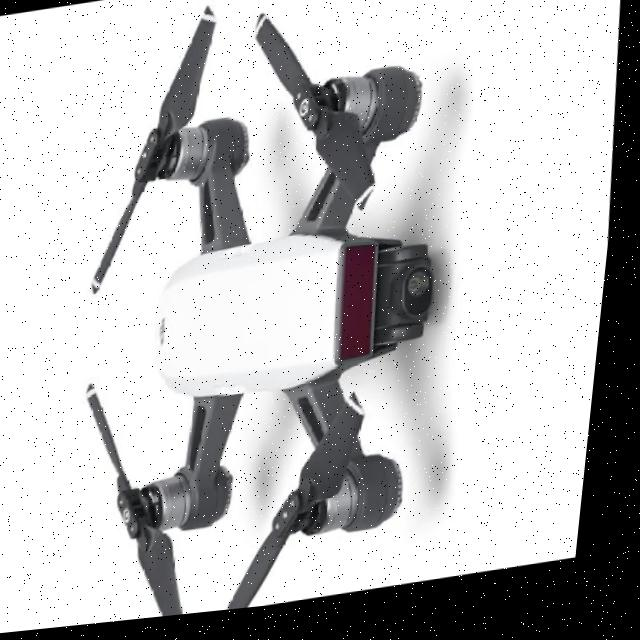drones: (42, 0, 509, 632)
